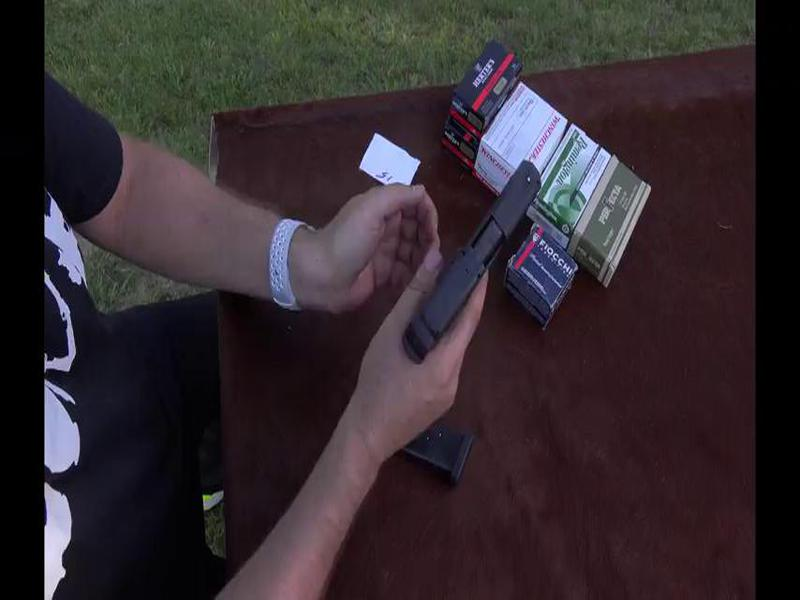Pistola: (400, 143, 554, 375)
